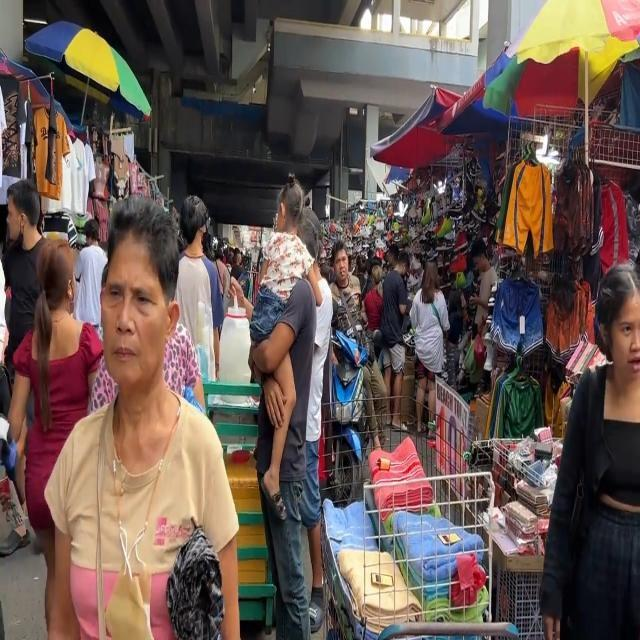hairnet: (6, 202, 25, 251)
